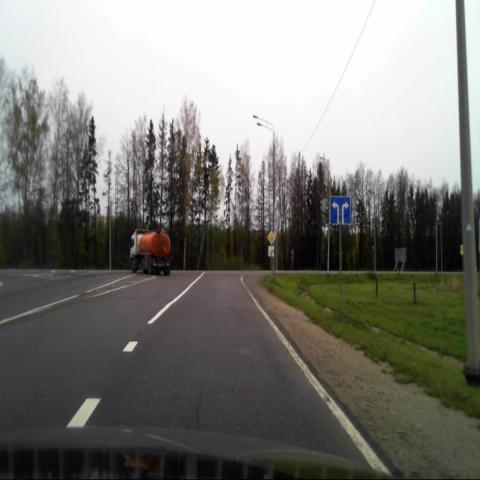5_15_2_2: (329, 196, 351, 224)
